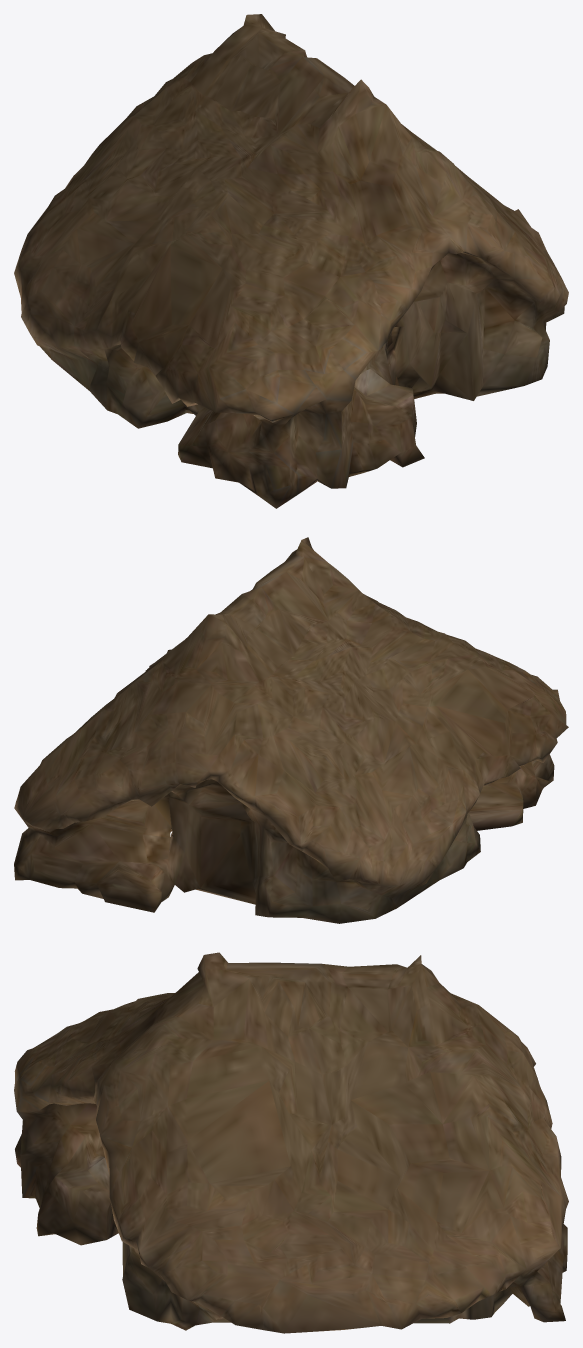
File: lumber.glb
3 renders of one model, top to bottom at view 1: azimuth 30°, elevation 25°; view 2: azimuth 150°, elevation 25°; view 3: azimuth 270°, elevation 25°, orthographic. The views are drawn at different scales.
Visible parts, largest first — view 1: model; view 2: model; view 3: model.
Part boxes in pixels (x1=…): model: x1=14, y1=14, x2=568, y2=508; model: x1=14, y1=537, x2=568, y2=923; model: x1=14, y1=952, x2=568, y2=1333.
Bounding box in the file's own units: 0.893 × 0.6056 × 1.
Materials: 1 (1 with a texture image).
